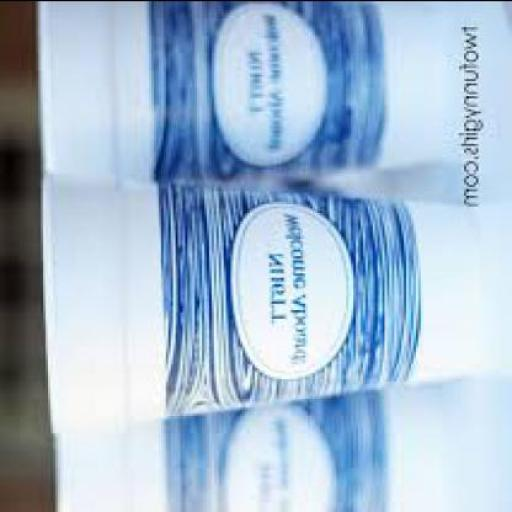paper: (39, 168, 488, 430), (30, 1, 456, 182), (50, 386, 386, 510)
